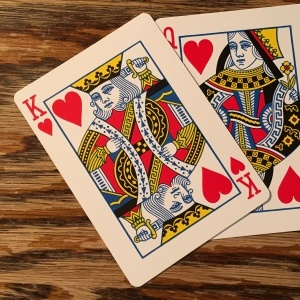card: (14, 12, 270, 288)
